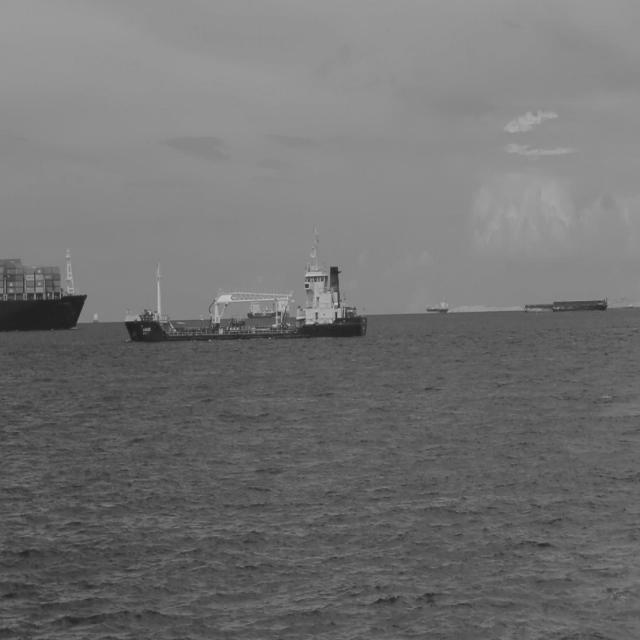ship: (123, 217, 374, 351), (1, 238, 87, 338), (549, 296, 607, 316), (424, 296, 451, 318)
